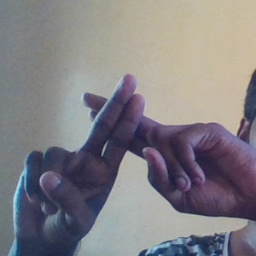F: (51, 66, 202, 200)
